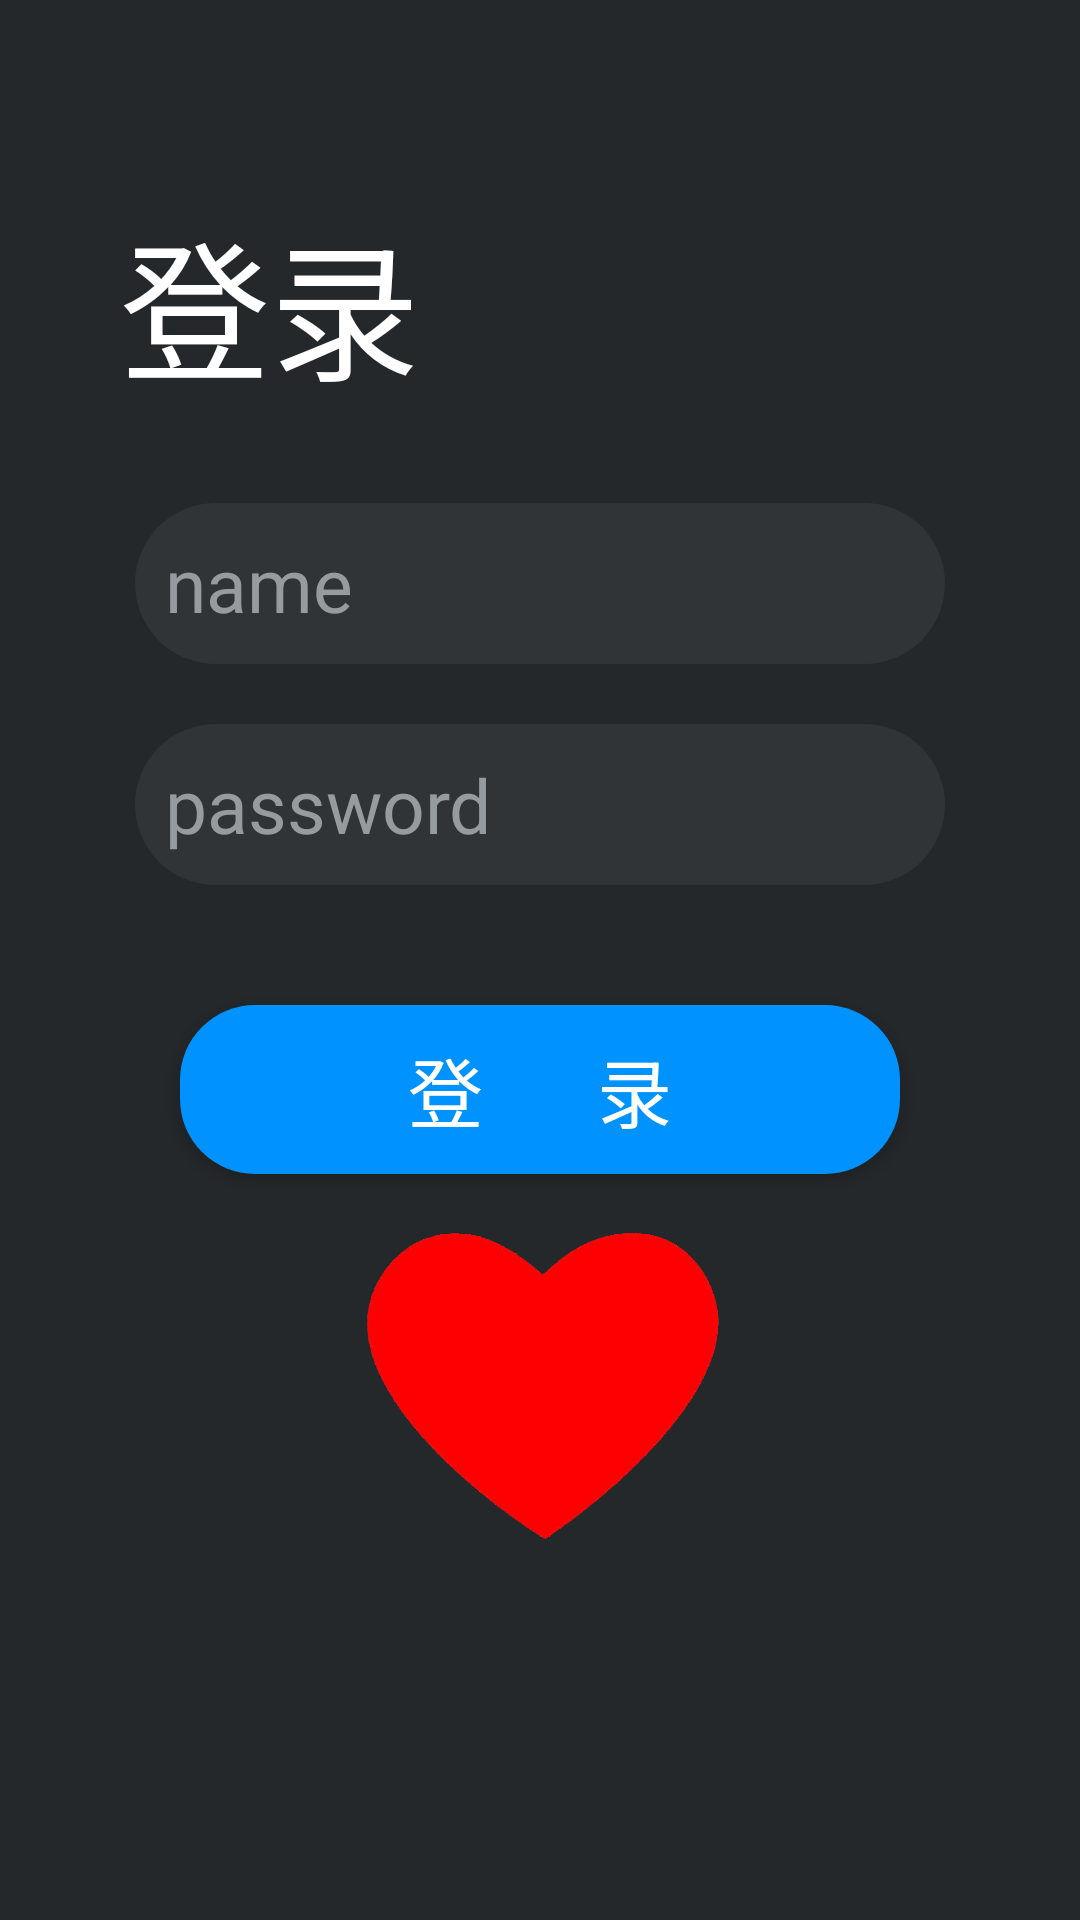

Where to tap for icons on this 1080 × 1920 app screen, as [x,y]:
heart: [543,1386]
